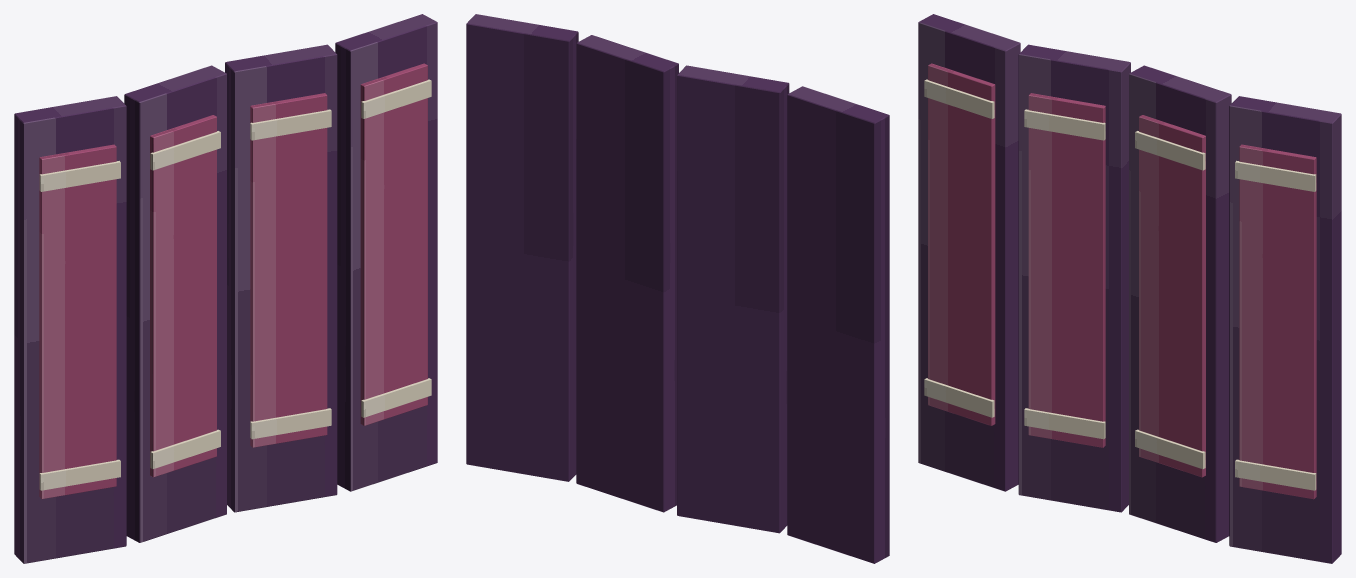
The model's file is mansion_room_divider.glb.
The picture shows the model from 3 angles, left to right: view 1: azimuth 30°, elevation 25°; view 2: azimuth 150°, elevation 25°; view 3: azimuth 330°, elevation 25°; orthographic projection.
Parts seen in each view (by area): view 1: DividerPanel_0, DividerInset_0, DividerInset_2, DividerPanel_2, DividerPanel_3, DividerPanel_1, DividerInset_3, DividerInset_1, DividerBand_2_1.72, DividerBand_0_0.42, DividerBand_2_0.42, DividerBand_0_1.72 (+4 smaller); view 2: DividerPanel_1, DividerPanel_3, DividerPanel_0, DividerPanel_2; view 3: DividerPanel_3, DividerInset_3, DividerInset_1, DividerPanel_1, DividerPanel_0, DividerPanel_2, DividerInset_0, DividerInset_2, DividerBand_1_1.72, DividerBand_3_0.42, DividerBand_1_0.42, DividerBand_3_1.72 (+4 smaller).
Part boxes in pixels (x1,y1,x2,y2): DividerPanel_0: (14, 96, 126, 563); DividerInset_0: (39, 144, 116, 499); DividerInset_2: (250, 93, 327, 447); DividerPanel_2: (225, 44, 337, 512); DividerPanel_3: (335, 14, 437, 491); DividerPanel_1: (124, 65, 226, 542); DividerInset_3: (360, 63, 427, 425); DividerInset_1: (150, 115, 216, 477); DividerBand_2_1.72: (250, 109, 331, 140); DividerBand_0_0.42: (39, 459, 120, 490); DividerBand_2_0.42: (250, 408, 331, 439); DividerBand_0_1.72: (39, 160, 120, 191); DividerPanel_1: (677, 65, 789, 533); DividerPanel_3: (466, 14, 578, 481); DividerPanel_0: (787, 86, 889, 563); DividerPanel_2: (576, 35, 678, 512); DividerPanel_3: (1229, 96, 1341, 563); DividerInset_3: (1239, 144, 1316, 499); DividerInset_1: (1028, 93, 1105, 447); DividerPanel_1: (1018, 44, 1130, 512); DividerPanel_0: (918, 14, 1020, 491); DividerPanel_2: (1129, 65, 1231, 542); DividerInset_0: (928, 63, 995, 425); DividerInset_2: (1139, 115, 1205, 477); DividerBand_1_1.72: (1024, 109, 1105, 140); DividerBand_3_0.42: (1235, 459, 1316, 490); DividerBand_1_0.42: (1024, 408, 1105, 439); DividerBand_3_1.72: (1235, 160, 1316, 191).
Bounding box in the file's own units: 1.89 × 1.92 × 0.1893.
1 material, 1 textured.
